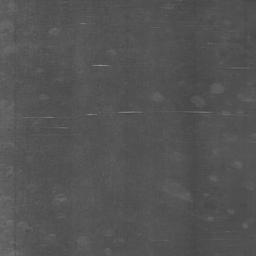Waist folding: (185, 91, 256, 118), (207, 208, 236, 223), (210, 19, 256, 28), (227, 221, 256, 233), (0, 169, 23, 176), (24, 115, 55, 120), (0, 27, 21, 34), (119, 109, 143, 115), (93, 62, 112, 68), (231, 66, 256, 70)
